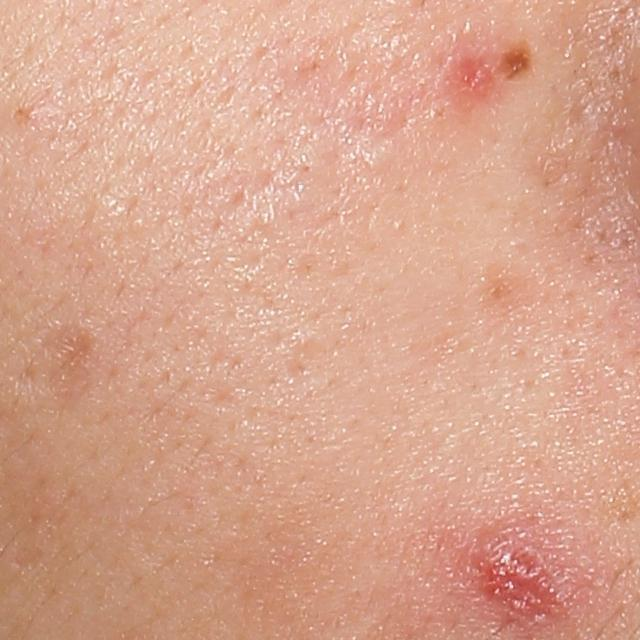atrophic_scar: (29, 323, 104, 404)
nevus: (500, 45, 532, 77)
papule: (475, 546, 549, 615)
